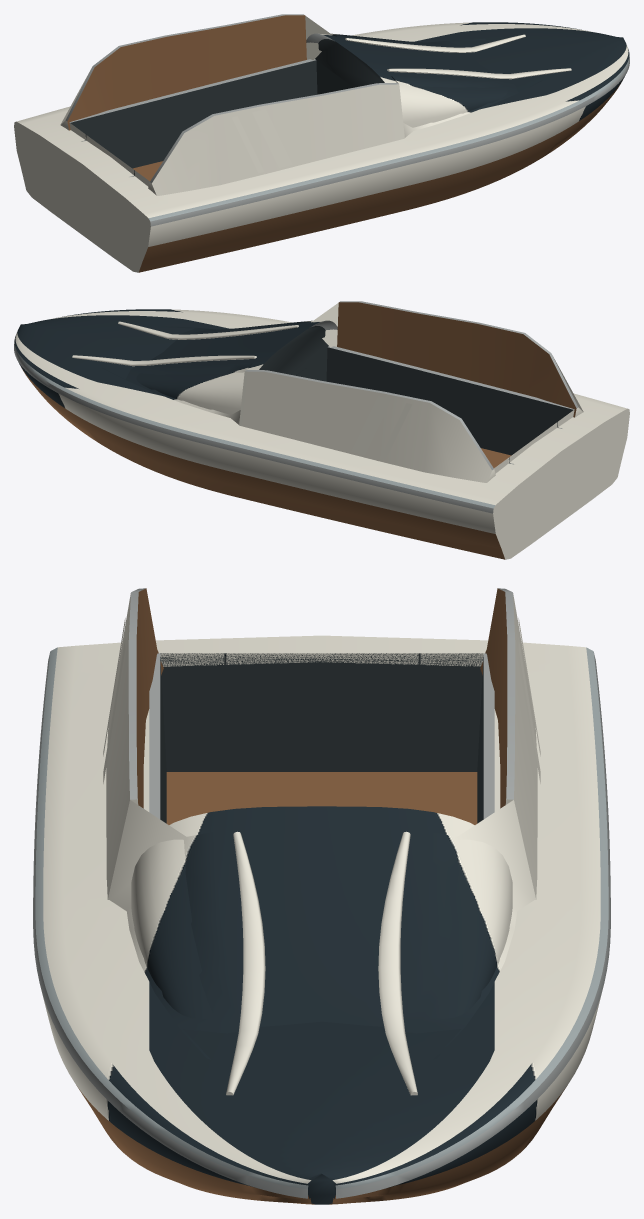
The model's file is Hull_13_R_黒潮・片流れ.glb.
The picture shows the model from 3 angles, top to bottom: view 1: azimuth 30°, elevation 25°; view 2: azimuth 150°, elevation 25°; view 3: azimuth 270°, elevation 25°; orthographic projection. The views are drawn at different scales.
Visible parts, largest first — view 1: Hull_13_R; view 2: Hull_13_R; view 3: Hull_13_R.
Boxes of the visible parts, bbox=[...] form: Hull_13_R: bbox=[14, 14, 629, 272]; Hull_13_R: bbox=[14, 301, 629, 559]; Hull_13_R: bbox=[33, 588, 610, 1204].
Bounding box in the file's own units: 2.9 × 0.6856 × 1.34.
4 materials, 4 textured.
